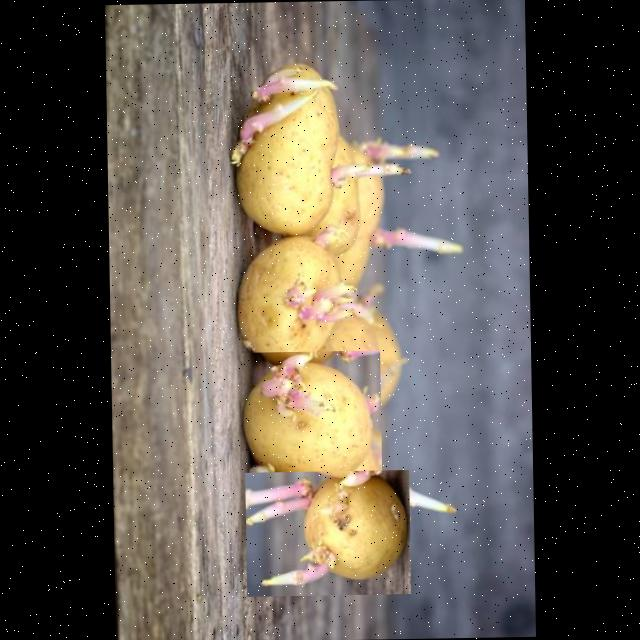Sprouted potato: (233, 58, 359, 240), (244, 468, 410, 596), (240, 349, 382, 489), (230, 228, 365, 367)
